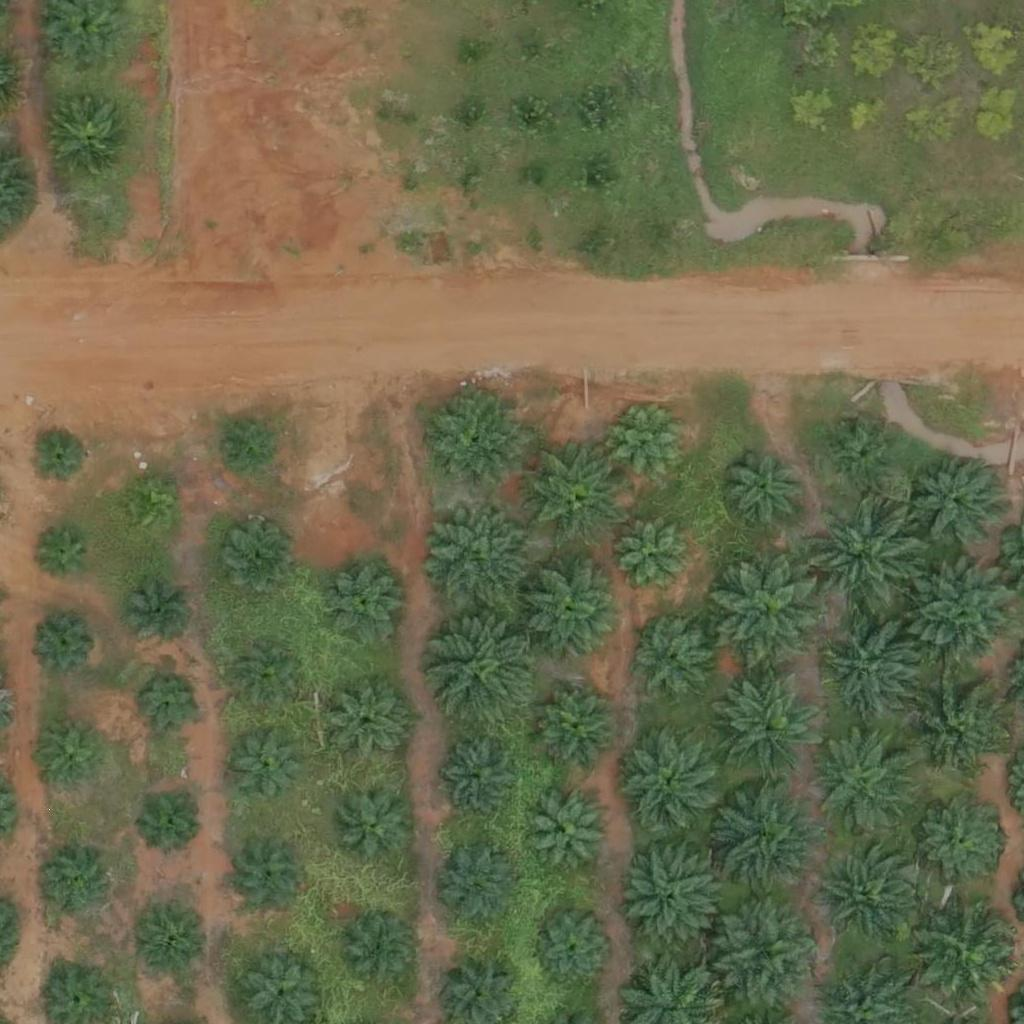Kelapa_Sawit: (811, 487, 936, 612), (426, 504, 539, 618), (432, 611, 545, 725), (713, 551, 826, 664), (718, 670, 831, 783), (712, 779, 825, 892), (712, 897, 824, 1011), (427, 391, 527, 492), (525, 442, 625, 543), (826, 617, 926, 718), (816, 732, 916, 833), (816, 853, 916, 954), (914, 563, 1014, 664), (906, 679, 1006, 780), (920, 902, 1020, 1003), (525, 562, 625, 662), (622, 729, 722, 829), (625, 843, 725, 943), (49, 96, 137, 184), (915, 461, 1003, 549), (916, 796, 1004, 884), (722, 447, 809, 536), (610, 400, 697, 488), (533, 906, 620, 994), (233, 634, 308, 710), (217, 524, 292, 600), (331, 685, 406, 761), (326, 565, 401, 641), (446, 738, 521, 814), (444, 852, 519, 928), (538, 691, 613, 767), (533, 795, 608, 871), (640, 624, 715, 700), (615, 517, 690, 592), (31, 850, 106, 925), (232, 841, 307, 916), (337, 913, 412, 988), (339, 785, 414, 860), (233, 725, 308, 800), (120, 580, 195, 655), (134, 670, 209, 745), (132, 784, 207, 859), (135, 908, 210, 983), (41, 723, 104, 786), (118, 478, 181, 541), (210, 416, 273, 479), (835, 424, 897, 487), (28, 425, 90, 488), (32, 525, 94, 588), (32, 612, 94, 675)
